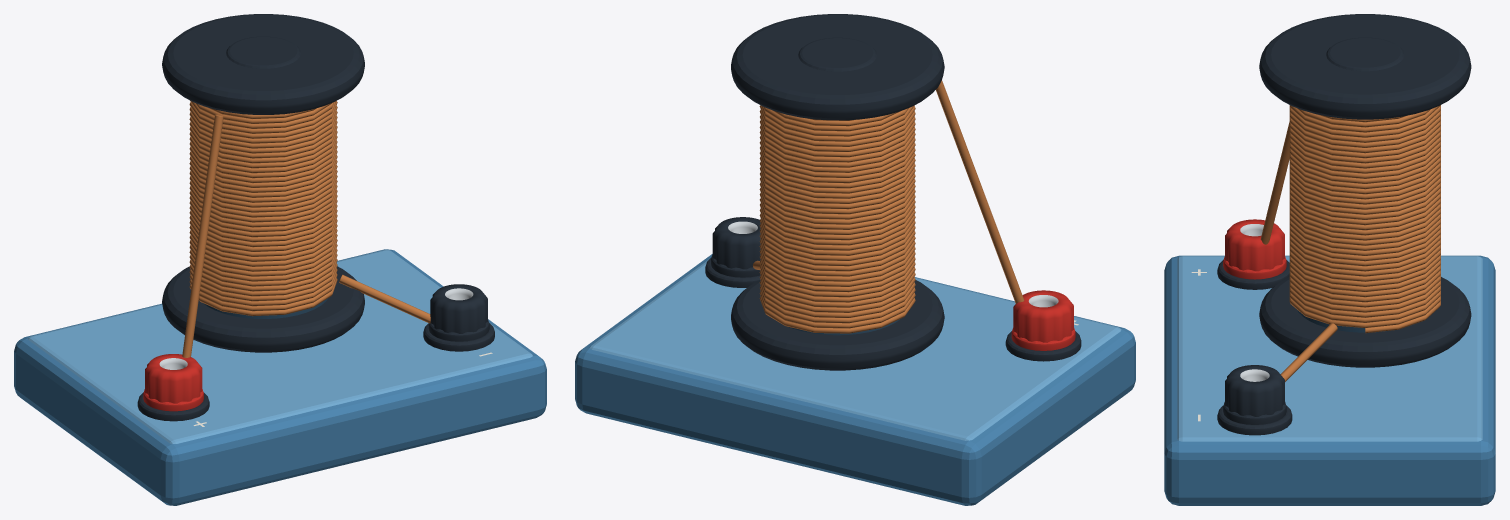
Rendered from solenoid.glb.
The picture shows the model from 3 angles, left to right: view 1: azimuth 30°, elevation 25°; view 2: azimuth 150°, elevation 25°; view 3: azimuth 270°, elevation 25°; orthographic projection. The views are drawn at different scales.
Parts seen in each view (by area): view 1: Insulated solenoid stand, Top shoulder, Continuous copper winding, Black coil flange.001, Black coil flange, n binding socket, p binding socket, Positive coil flying lead, Core opening, Return coil lead, n socket washer, p socket washer (+2 smaller); view 2: Insulated solenoid stand, Top shoulder, Continuous copper winding, Black coil flange.001, Black coil flange, p binding socket, Positive coil flying lead, n binding socket, Core opening, p socket washer, p socket foot, n socket washer; view 3: Continuous copper winding, Top shoulder, Insulated solenoid stand, Black coil flange.001, Black coil flange, n binding socket, p binding socket, Core opening, Positive coil flying lead, n socket washer, p socket washer, Return coil lead (+2 smaller).
Part boxes in pixels (left/top/right/bottom): Insulated solenoid stand: left=14, top=249, right=546, bottom=505; Top shoulder: left=28, top=249, right=532, bottom=443; Continuous copper winding: left=189, top=100, right=337, bottom=316; Black coil flange.001: left=162, top=14, right=364, bottom=114; Black coil flange: left=162, top=266, right=364, bottom=352; n binding socket: left=430, top=284, right=487, bottom=333; p binding socket: left=145, top=354, right=202, bottom=403; Positive coil flying lead: left=182, top=114, right=223, bottom=357; Core opening: left=226, top=36, right=300, bottom=68; Return coil lead: left=339, top=274, right=430, bottom=323; n socket washer: left=423, top=323, right=494, bottom=351; p socket washer: left=137, top=392, right=209, bottom=421; Insulated solenoid stand: left=575, top=254, right=1135, bottom=505; Top shoulder: left=589, top=260, right=1121, bottom=440; Continuous copper winding: left=759, top=105, right=915, bottom=333; Black coil flange.001: left=731, top=14, right=944, bottom=120; Black coil flange: left=731, top=280, right=944, bottom=370; p binding socket: left=1013, top=290, right=1073, bottom=342; Positive coil flying lead: left=936, top=80, right=1024, bottom=303; n binding socket: left=712, top=217, right=760, bottom=269; Core opening: left=798, top=37, right=876, bottom=71; p socket washer: left=1005, top=331, right=1081, bottom=361; p socket foot: left=1011, top=328, right=1075, bottom=350; n socket washer: left=705, top=258, right=760, bottom=287; Continuous copper winding: left=1289, top=105, right=1440, bottom=333; Top shoulder: left=1177, top=256, right=1482, bottom=441; Insulated solenoid stand: left=1164, top=255, right=1495, bottom=505; Black coil flange.001: left=1259, top=14, right=1471, bottom=119; Black coil flange: left=1259, top=277, right=1471, bottom=367; n binding socket: left=1225, top=365, right=1284, bottom=416; p binding socket: left=1225, top=219, right=1284, bottom=271; Core opening: left=1326, top=37, right=1404, bottom=71; Positive coil flying lead: left=1260, top=122, right=1289, bottom=244; n socket washer: left=1217, top=405, right=1292, bottom=435; p socket washer: left=1217, top=260, right=1289, bottom=289; Return coil lead: left=1280, top=323, right=1337, bottom=381.
Bounding box in the file's own units: 0.105 × 0.0915 × 0.075.
